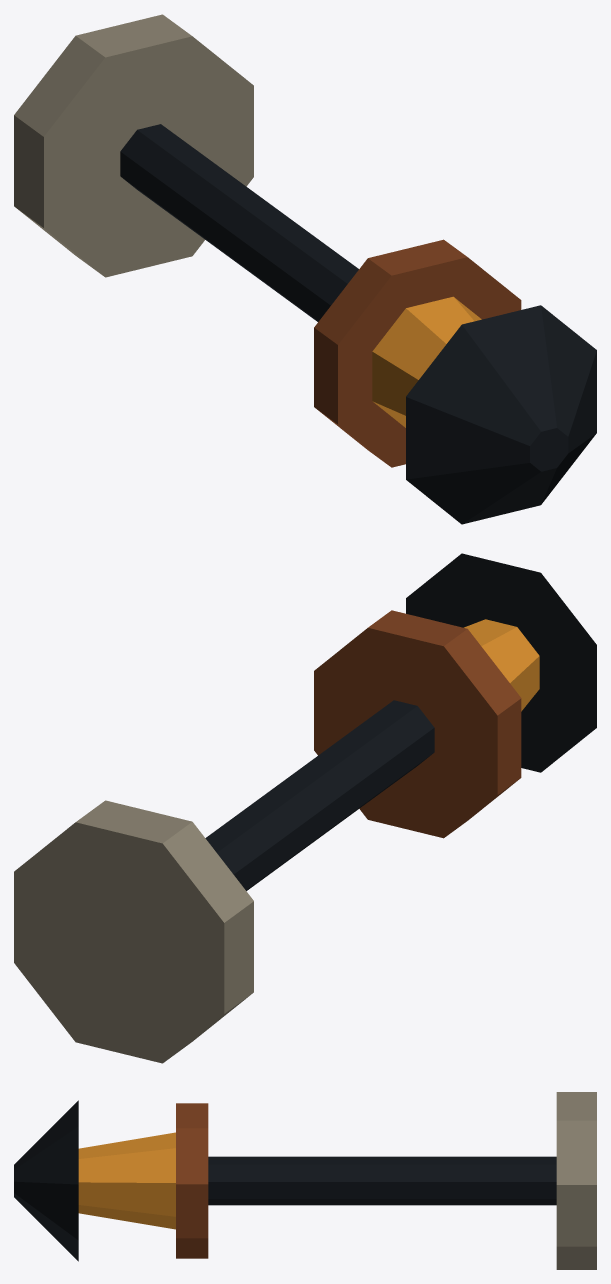
File: SM_AEON_PilgrimLantern.obj
3 renders of one model, top to bottom at view 1: azimuth 30°, elevation 25°; view 2: azimuth 150°, elevation 25°; view 3: azimuth 270°, elevation 25°, orthographic. The views are drawn at different scales.
Visible parts, largest first — view 1: SM_AEON_PilgrimLantern; view 2: SM_AEON_PilgrimLantern; view 3: SM_AEON_PilgrimLantern.
Part boxes in pixels (left/top/right/bottom): SM_AEON_PilgrimLantern: left=14, top=14, right=596, bottom=524; SM_AEON_PilgrimLantern: left=14, top=553, right=596, bottom=1063; SM_AEON_PilgrimLantern: left=14, top=1092, right=596, bottom=1269.
Size of the model in its own units: 102 by 102 by 360.
